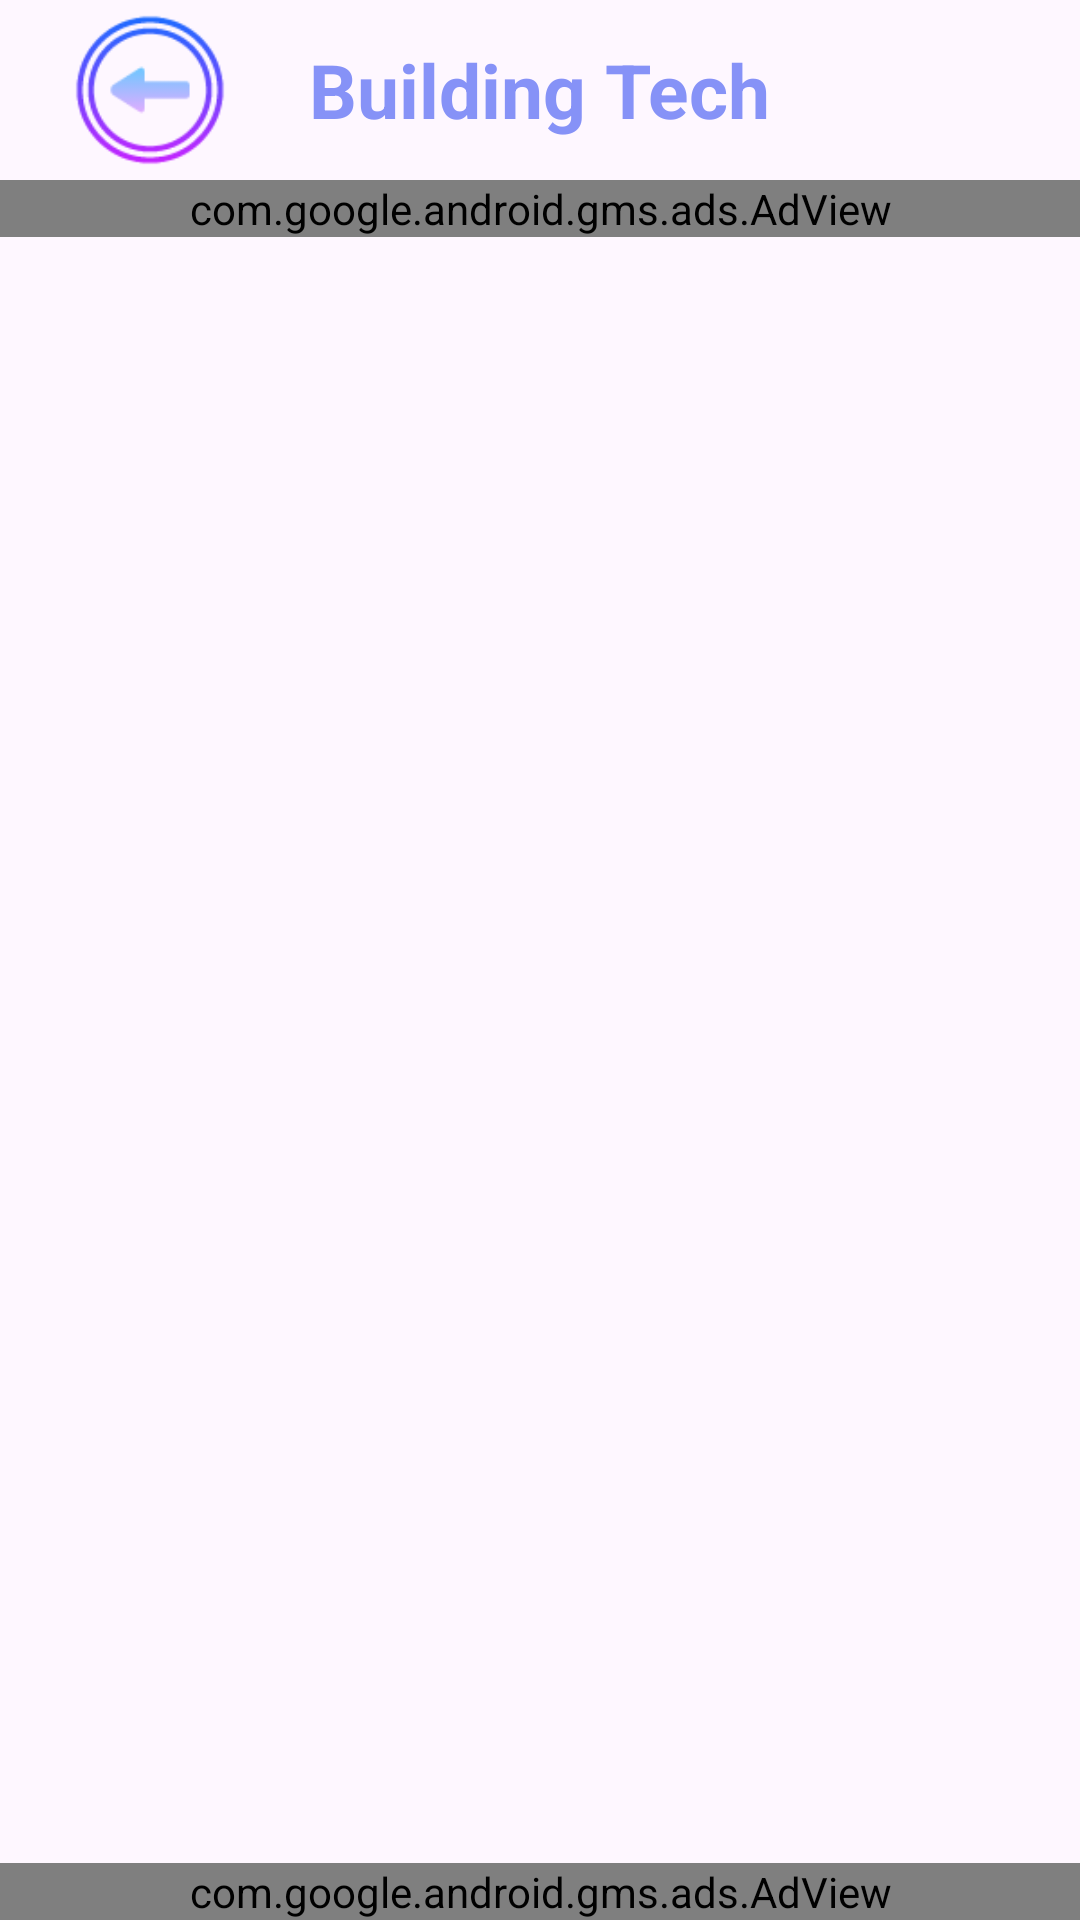

Screen size 1080px x 1920px. Icon name, then its center in pixels as point (x, y):
back: point (150, 90)
